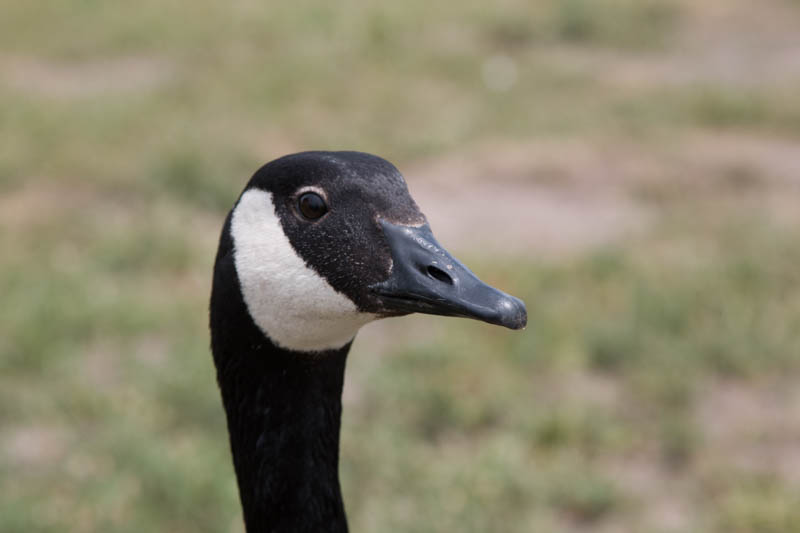goose-head: (210, 152, 528, 354)
